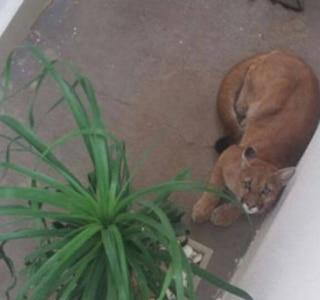OncaParda: (189, 46, 318, 229)
